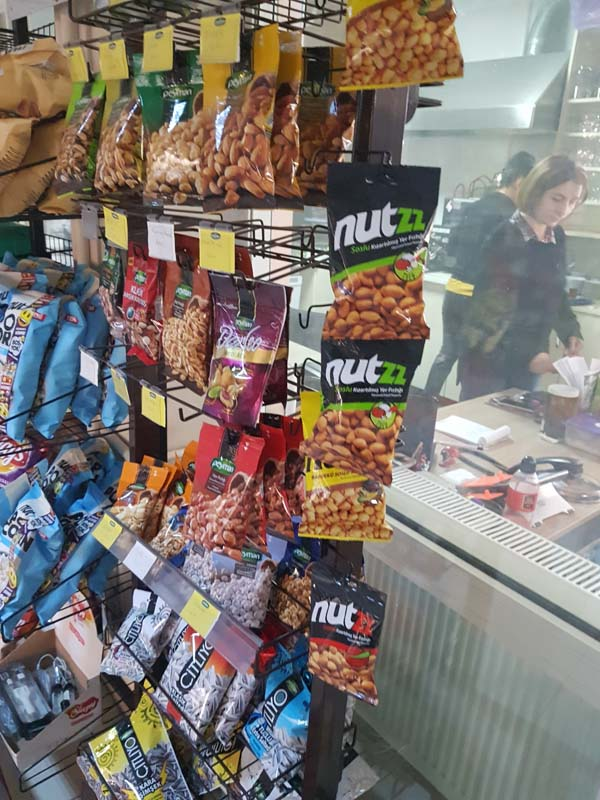antepfistigi: (48, 82, 99, 185)
popcorn: (1, 482, 66, 637), (1, 287, 52, 441)
